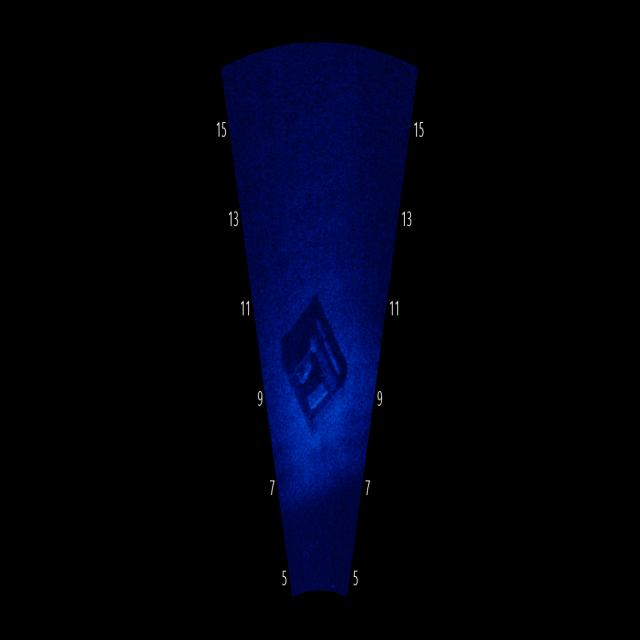square: (280, 282, 352, 444)
